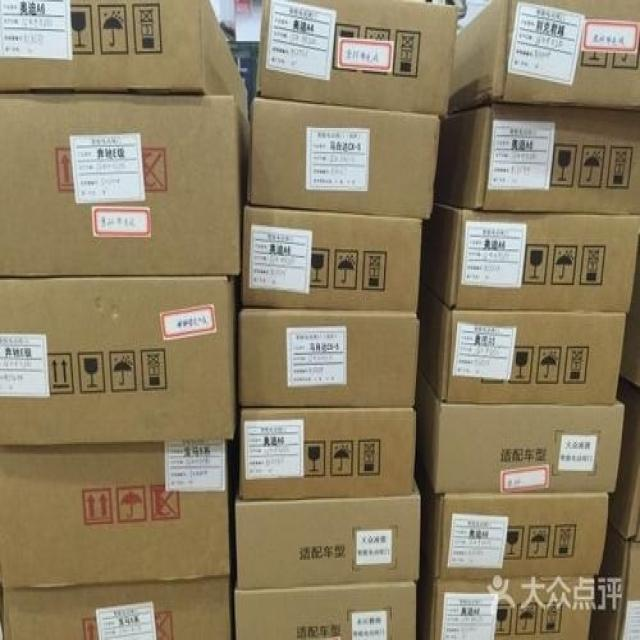box: (0, 96, 250, 276), (0, 275, 239, 447), (0, 441, 232, 587), (1, 1, 250, 120), (417, 280, 625, 404), (415, 371, 623, 494), (419, 202, 638, 312), (413, 458, 608, 579), (251, 1, 456, 116), (248, 98, 440, 217), (435, 105, 639, 215), (448, 0, 638, 114), (235, 477, 420, 588), (241, 204, 421, 312), (239, 308, 418, 407), (239, 409, 415, 499), (1, 577, 232, 638), (416, 567, 593, 638), (233, 581, 416, 638), (587, 528, 639, 638), (609, 375, 639, 539), (620, 229, 639, 391)
